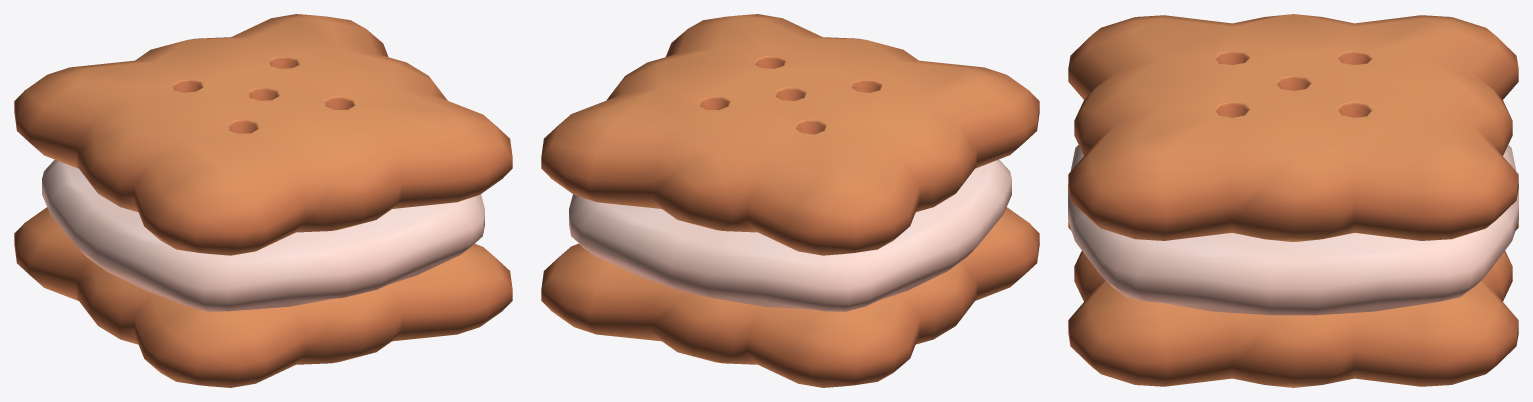
The model's file is Biscuits_V1_01.fbx.
3 views of the same model, side by side, from view 1: azimuth 30°, elevation 25°; view 2: azimuth 150°, elevation 25°; view 3: azimuth 270°, elevation 25° (orthographic). The views are drawn at different scales.
Parts seen in each view (by area): view 1: Biscuits_V1_01; view 2: Biscuits_V1_01; view 3: Biscuits_V1_01.
Part boxes in pixels (x1=…): Biscuits_V1_01: x1=14, y1=14, x2=512, y2=387; Biscuits_V1_01: x1=541, y1=14, x2=1039, y2=387; Biscuits_V1_01: x1=1068, y1=14, x2=1518, y2=387.
Size of the model in its own units: 23.69 by 14.22 by 23.69.
